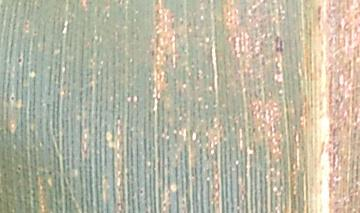tarspot: (15, 56, 26, 66)
